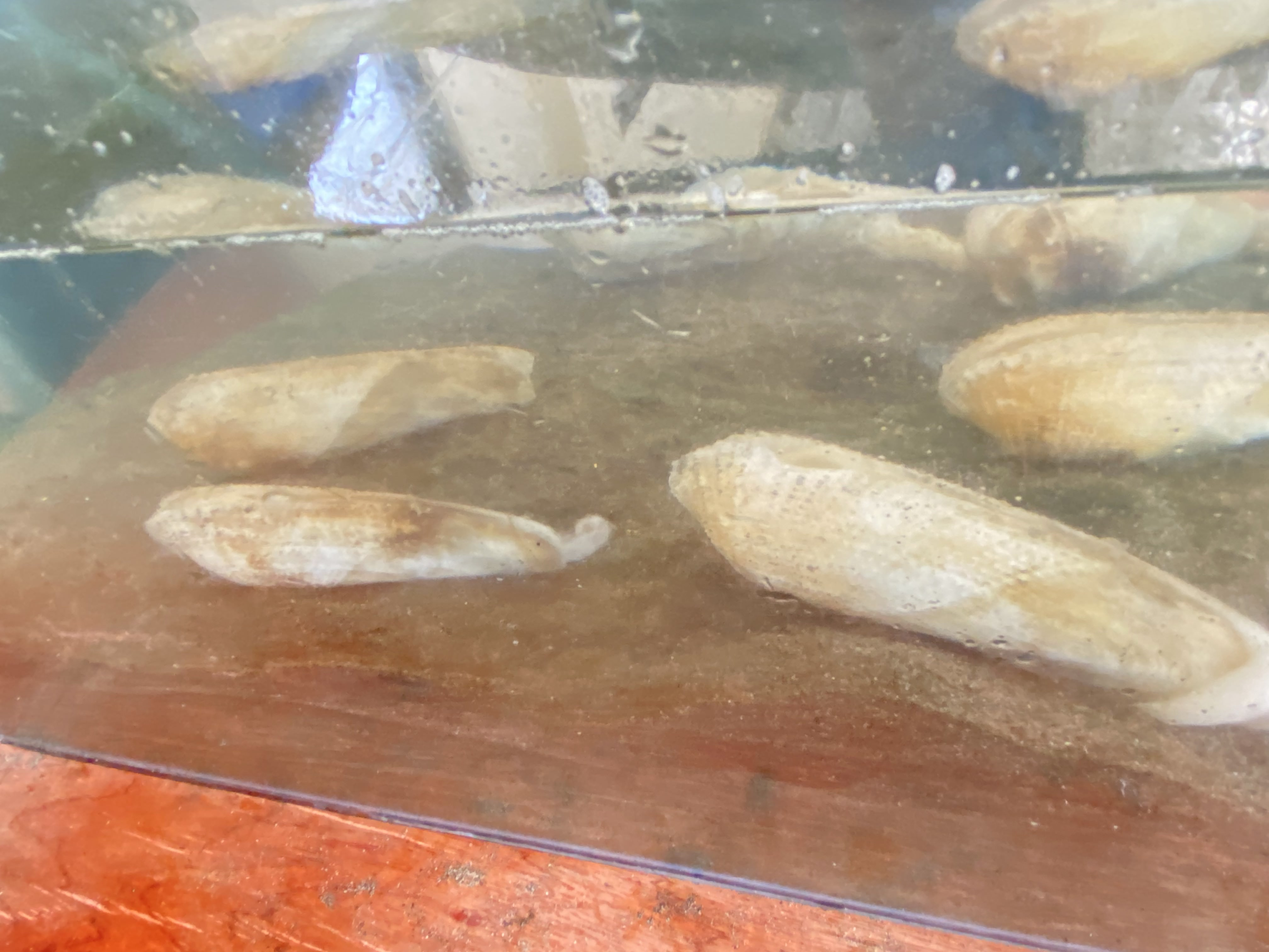At risk: (670, 432, 1269, 724), (939, 311, 1269, 459), (149, 346, 534, 471), (145, 484, 611, 586)
